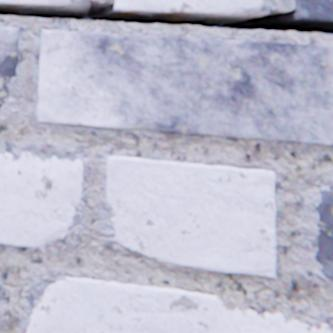brick: (36, 30, 332, 144), (106, 156, 274, 276), (26, 276, 332, 332), (0, 152, 82, 246), (114, 0, 262, 14), (314, 184, 332, 279), (0, 27, 19, 106), (293, 0, 332, 20), (0, 0, 71, 4)
crack: (0, 1, 332, 35)
